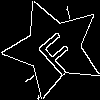F: (28, 23, 83, 79)
